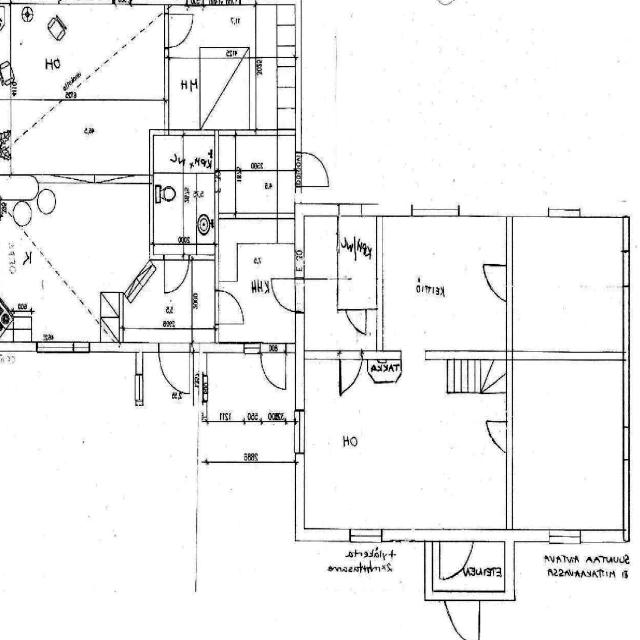door: (440, 528, 473, 586), (445, 590, 479, 640), (159, 342, 190, 394), (260, 342, 286, 387), (480, 265, 513, 300), (272, 279, 304, 311), (164, 254, 189, 294), (296, 153, 326, 186), (483, 421, 513, 453), (165, 14, 193, 47), (216, 290, 243, 324), (340, 350, 362, 390), (346, 304, 366, 337)
